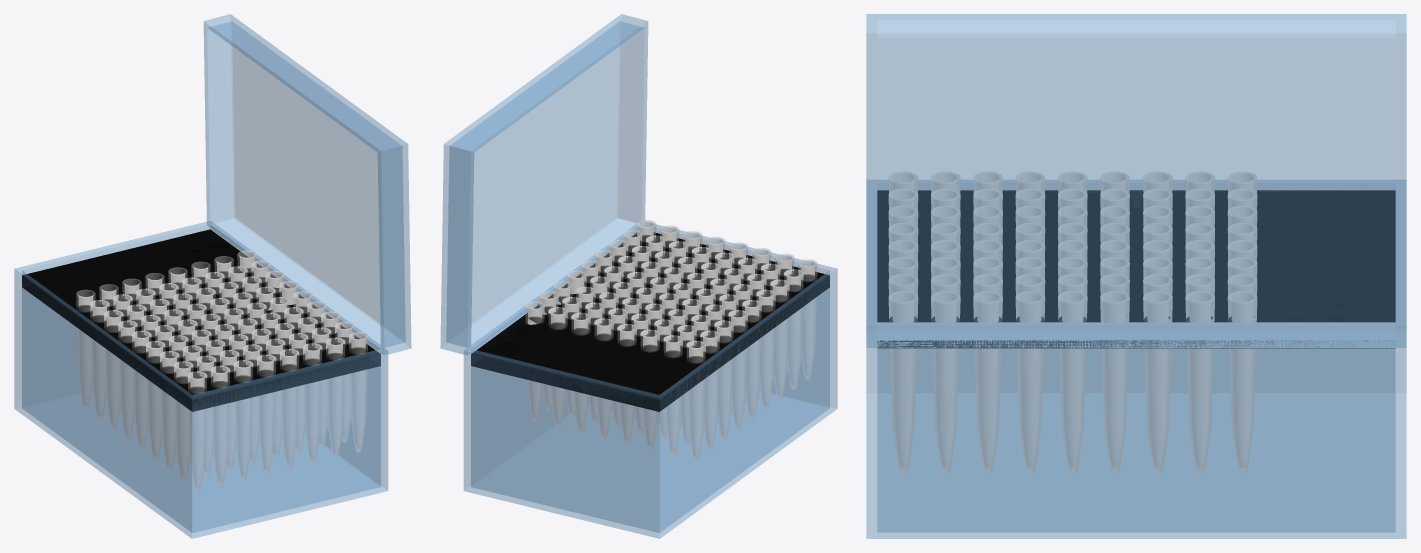
Rendered from 插满吸头的架子.fbx.
3 renders of one model, left to right at view 1: azimuth 30°, elevation 25°; view 2: azimuth 150°, elevation 25°; view 3: azimuth 270°, elevation 25°, orthographic. The views are drawn at different scales.
Visible parts, largest first — view 1: 立方体.008, 立方体.009, 立方体.010, 排列试管.101, 排列试管.095, 排列试管.099, 排列试管.096, 排列试管.097, 排列试管.017, 排列试管.100, 排列试管.098, 排列试管.031 (+14 smaller); view 2: 立方体.008, 立方体.009, 立方体.010, 排列试管.045, 排列试管.073, 排列试管.087, 排列试管.094, 排列试管.101, 排列试管.080, 排列试管.031, 排列试管.038, 排列试管.024 (+14 smaller); view 3: 立方体.009, 立方体.008, 立方体.010, 排列试管.011, 排列试管.006, 排列试管.007, 排列试管.005, 排列试管.016, 排列试管.003, 排列试管.012, 排列试管.017, 排列试管.013.
Part boxes in pixels (x1,y1,x2,y2): 立方体.008: (14, 221, 388, 538); 立方体.009: (203, 14, 411, 355); 立方体.010: (22, 229, 380, 411); 排列试管.101: (187, 371, 207, 491); 排列试管.095: (326, 337, 345, 457); 排列试管.099: (233, 360, 253, 480); 排列试管.096: (303, 343, 322, 463); 排列试管.097: (279, 349, 299, 468); 排列试管.017: (349, 332, 368, 452); 排列试管.100: (210, 365, 230, 485); 排列试管.098: (256, 354, 276, 474); 排列试管.031: (104, 310, 123, 430); 立方体.008: (463, 222, 837, 538); 立方体.009: (440, 14, 648, 355); 立方体.010: (471, 232, 829, 411); 排列试管.045: (686, 341, 705, 460); 排列试管.073: (728, 310, 747, 430); 排列试管.087: (770, 279, 789, 399); 排列试管.094: (784, 269, 803, 389); 排列试管.101: (798, 259, 817, 379); 排列试管.080: (756, 289, 775, 409); 排列试管.031: (714, 320, 733, 440); 排列试管.038: (700, 330, 719, 450); 排列试管.024: (742, 300, 761, 419); 立方体.009: (866, 14, 1406, 347); 立方体.008: (866, 180, 1406, 538); 立方体.010: (877, 190, 1395, 348); 排列试管.011: (1100, 291, 1129, 473); 排列试管.006: (1185, 291, 1214, 473); 排列试管.007: (1228, 291, 1256, 473); 排列试管.005: (1143, 291, 1172, 473); 排列试管.016: (931, 291, 960, 473); 排列试管.003: (1058, 291, 1087, 473); 排列试管.012: (1016, 291, 1044, 473); 排列试管.017: (889, 291, 917, 473); 排列试管.013: (973, 291, 1002, 473).
Size of the model in its own units: 108 by 161 by 152.
